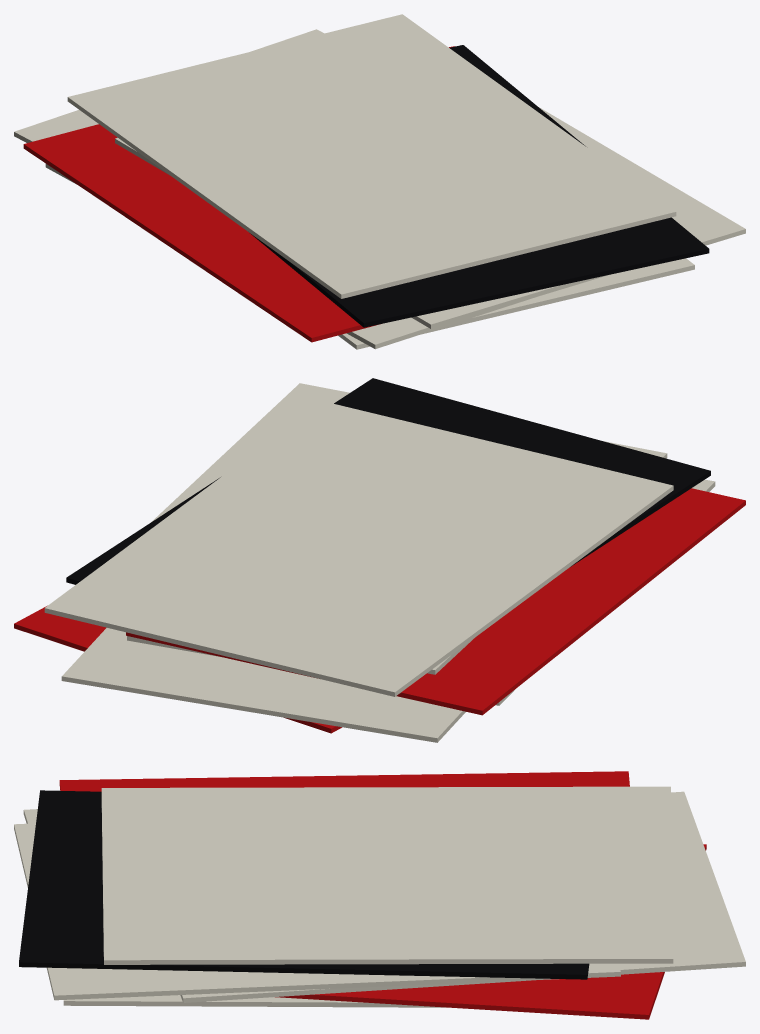
Rendered from Item_OR_Cards_17.glb.
The picture shows the model from 3 angles, top to bottom: view 1: azimuth 30°, elevation 25°; view 2: azimuth 150°, elevation 25°; view 3: azimuth 270°, elevation 25°; orthographic projection. The views are drawn at different scales.
Parts seen in each view (by area): view 1: Item_OR_Cards_17; view 2: Item_OR_Cards_17; view 3: Item_OR_Cards_17.
Part boxes in pixels (x1,y1,x2,y2): Item_OR_Cards_17: (14,14,745,349); Item_OR_Cards_17: (14,378,745,742); Item_OR_Cards_17: (14,771,745,1019).
Bounding box in the file's own units: 0.0842 × 0.0078 × 0.1131.
